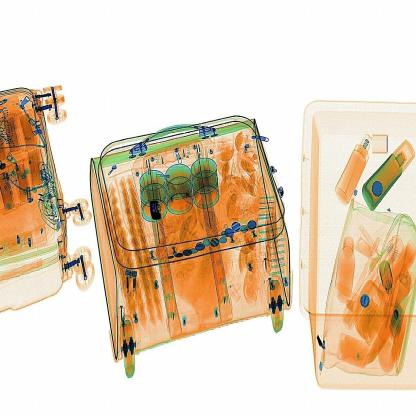pliers: (144, 195, 172, 224)
